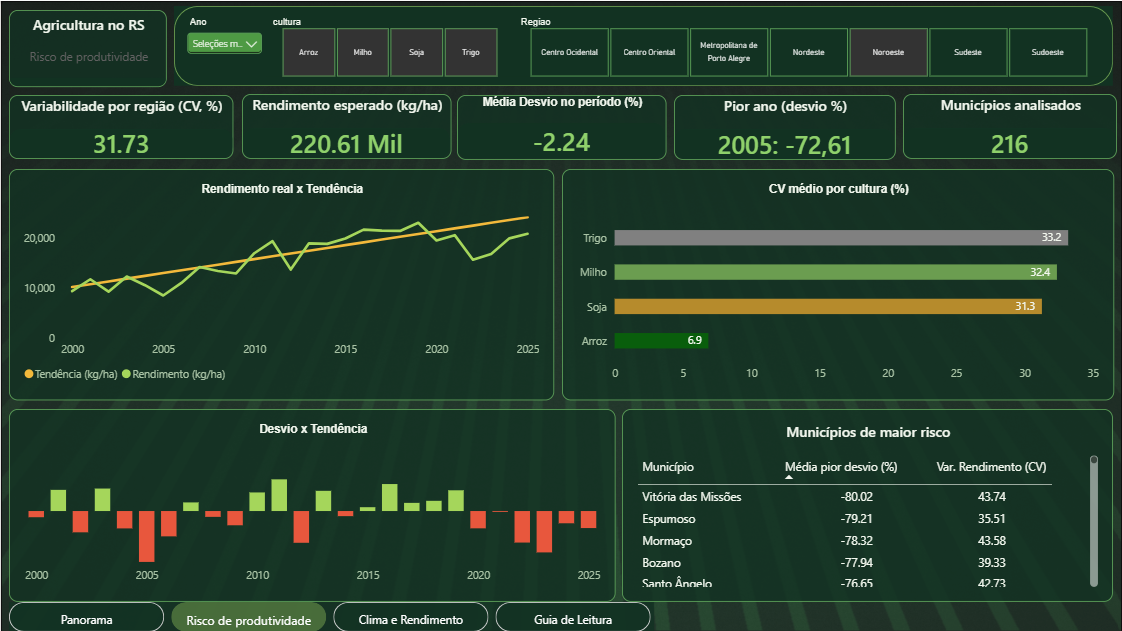

This screenshot's page, from the dashboard's own definition file:
{"tool":"powerbi","page":{"name":"Risco de produtividade","canvas":[1280,720],"ordinal":1},"visuals":[{"type":"lineChart","title":"Rendimento real x Tendência","fields":{"Category":["serie_rendimento_regiao.ano"],"Y":["Sum(serie_rendimento_regiao.tendencia_kg_ha)","Sum(serie_rendimento_regiao.rendimento_kg_ha)"]},"box":[9.2,191.5,621.6,263.6],"z":0},{"type":"columnChart","title":"Desvio x Tendência","fields":{"Category":["serie_rendimento_regiao.ano"],"Y":["_Medidas.desvio_vs_tendencia"]},"box":[8.9,465.6,692.2,220],"z":1000},{"type":"barChart","title":"CV médio por cultura (%)","fields":{"Category":["risco_municipio.cultura"],"Y":["_Medidas.variabilidade_rendimento"]},"box":[640,191.5,629.5,263.6],"z":2000},{"type":"tableEx","title":"Municípios de maior risco","fields":{"Values":["risco_municipio.municipio","Avg(risco_municipio.pior_desvio_pct)","_Medidas.variabilidade_rendimento"]},"box":[708.9,465.6,560,220],"z":3000},{"type":"shape","box":[197.5,6.2,1071.2,91.2],"z":4000},{"type":"shape","title":"Agricultura no RS","box":[8.8,10,180,87.5],"z":5000},{"type":"slicer","fields":{"Values":["dim_ano.ano"]},"box":[207.5,17.5,95,56.2],"z":6000},{"type":"slicer","title":"Região","fields":{"Values":["dim_mesorregiao.mesorregiao"]},"box":[585,17.5,672.5,68.8],"z":7000},{"type":"slicer","fields":{"Values":["dim_cultura.cultura"]},"box":[302.5,17.5,282.5,68.8],"z":8000},{"type":"cardVisual","title":"Variabilidade por região (CV, %)","fields":{"Data":["_Medidas.variabilidade_rendimento"]},"box":[8.8,107.5,256.2,72.5],"z":10000},{"type":"cardVisual","title":"Rendimento esperado (kg/ha)","fields":{"Data":["Sum(serie_rendimento_regiao.tendencia_kg_ha)"]},"box":[275,106.2,238.8,73.8],"z":11000},{"type":"cardVisual","title":"Média Desvio no período (%)","fields":{"Data":["_Medidas.desvio_rendimento"]},"box":[520,107.5,238.8,73.8],"z":12000},{"type":"cardVisual","title":"Pior ano (desvio %)","fields":{"Data":["_Medidas.Pior ano com desvio"]},"box":[767.5,107.5,252.5,73.8],"z":13000},{"type":"cardVisual","title":"Municípios analisados","fields":{"Data":["Count(dim_municipio.cod_municipio)"]},"box":[1028.8,106.2,243.8,73.8],"z":14000},{"type":"pageNavigator","box":[9.2,685.9,735.7,34.1],"z":15000}]}

Visuals, with their boxes in screenshot pixels (x1, y1, x2, y2), scaled from the page's 1280x720 canvas onto the 1122x631 screenshot:
"Rendimento real x Tendência" lineChart: Rect(8, 168, 553, 399)
"Desvio x Tendência" columnChart: Rect(8, 408, 615, 601)
"CV médio por cultura (%)" barChart: Rect(561, 168, 1113, 399)
"Municípios de maior risco" tableEx: Rect(621, 408, 1112, 601)
shape: Rect(173, 5, 1112, 85)
"Agricultura no RS" shape: Rect(8, 9, 165, 85)
slicer - dim_ano.ano: Rect(182, 15, 265, 65)
"Região" slicer: Rect(513, 15, 1102, 76)
slicer - dim_cultura.cultura: Rect(265, 15, 513, 76)
"Variabilidade por região (CV, %)" cardVisual: Rect(8, 94, 232, 158)
"Rendimento esperado (kg/ha)" cardVisual: Rect(241, 93, 450, 158)
"Média Desvio no período (%)" cardVisual: Rect(456, 94, 665, 159)
"Pior ano (desvio %)" cardVisual: Rect(673, 94, 894, 159)
"Municípios analisados" cardVisual: Rect(902, 93, 1116, 158)
pageNavigator: Rect(8, 601, 653, 630)
